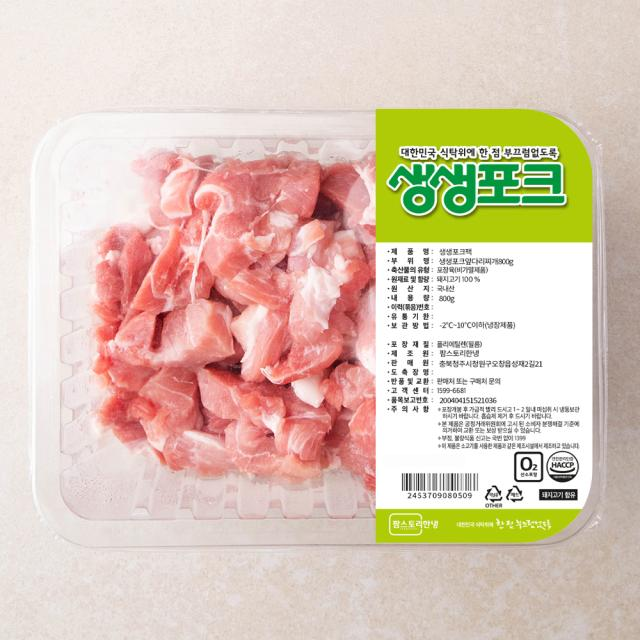pork: (45, 108, 607, 556)
